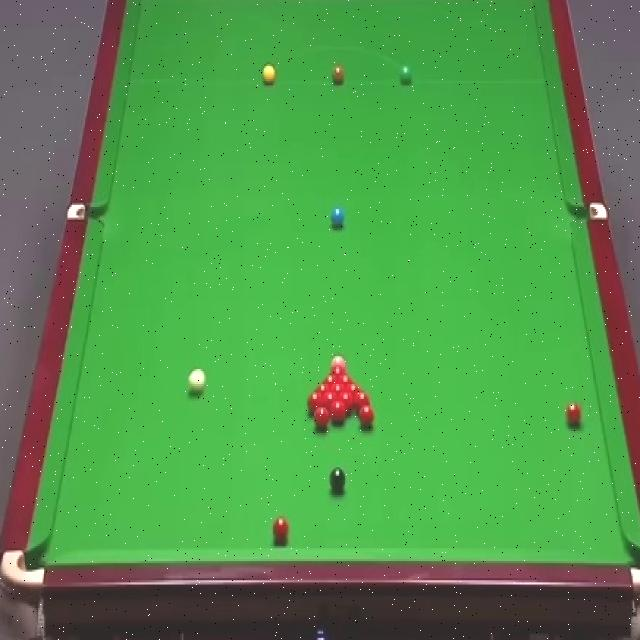black-ball: (329, 466, 346, 494), (330, 352, 347, 368)
blue-ball: (330, 207, 344, 230)
brown-ball: (332, 65, 344, 85)
green-ball: (399, 64, 416, 85)
red-ball: (271, 514, 289, 544), (358, 404, 375, 432), (313, 405, 330, 431), (329, 401, 346, 425), (566, 402, 582, 427), (306, 391, 324, 413), (339, 392, 353, 414), (354, 392, 369, 409), (323, 392, 338, 406), (315, 382, 332, 394), (328, 365, 347, 375), (323, 374, 338, 386), (345, 383, 362, 393), (339, 373, 354, 384), (332, 384, 345, 395)
white-ball: (188, 368, 206, 394)
yellow-ball: (262, 62, 276, 84)
